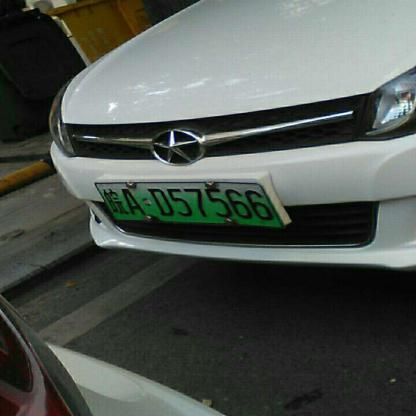lp: (94, 182, 281, 226)
